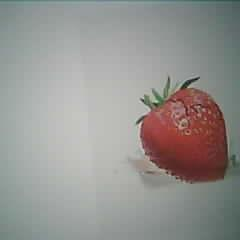straw-ripe: (140, 89, 230, 183)
